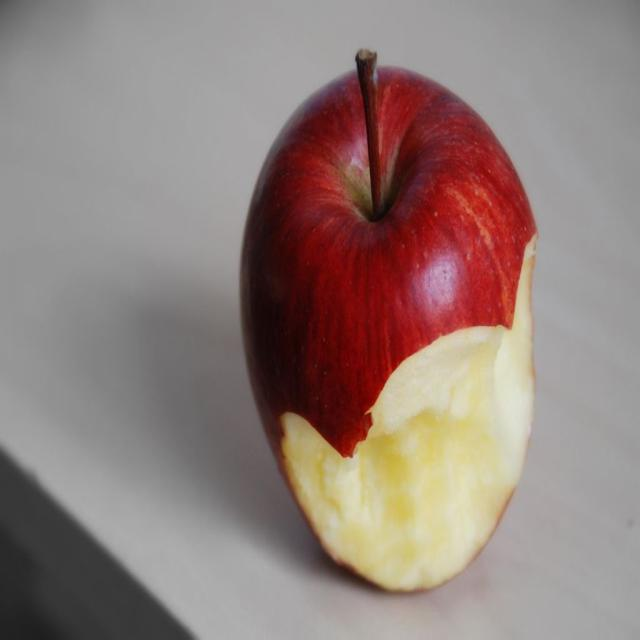Healty Apple: (236, 42, 540, 594)
